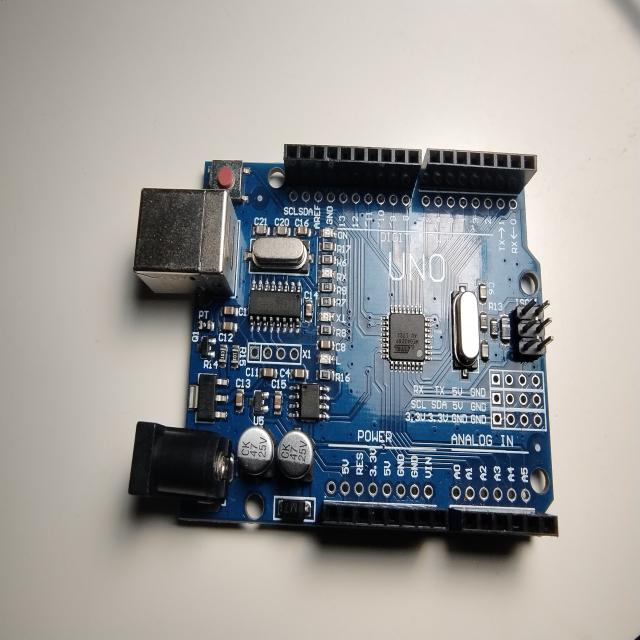arduino: (122, 126, 574, 572)
